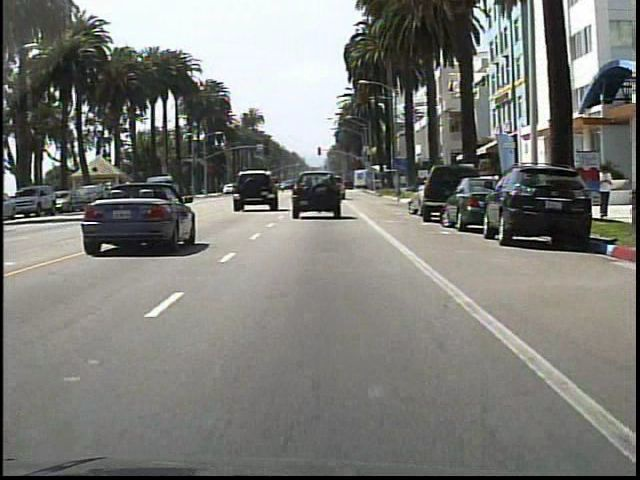person: (596, 163, 613, 220)
